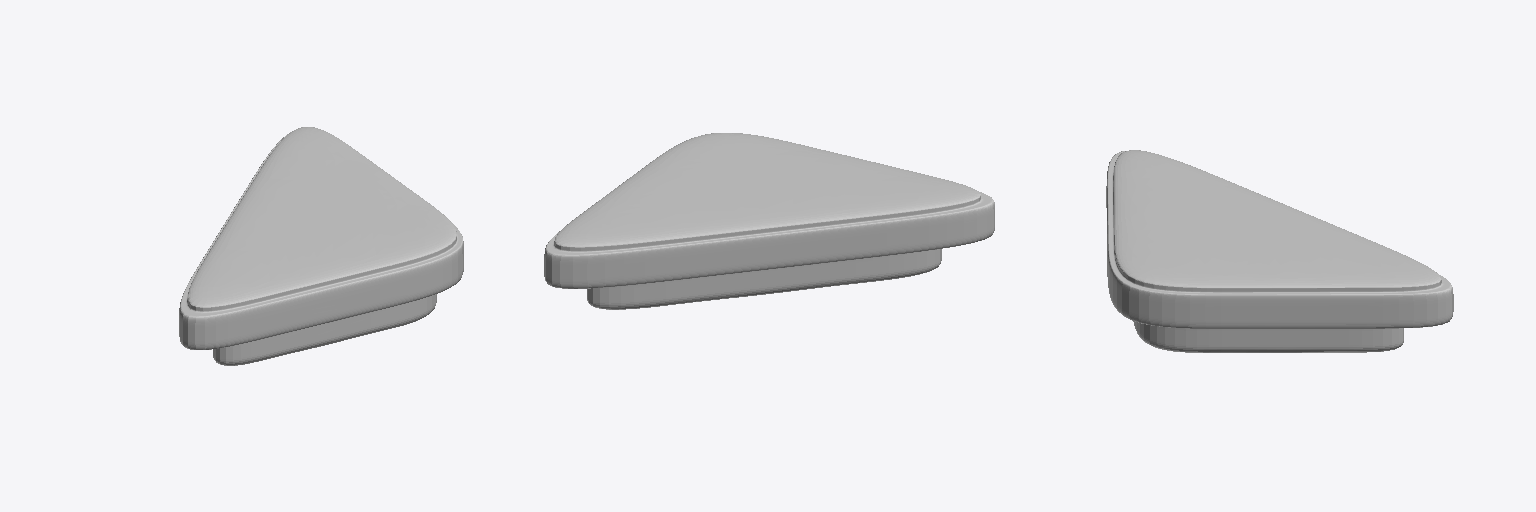
File: Sling.obj
3 views of the same model, side by side, from view 1: azimuth 30°, elevation 25°; view 2: azimuth 150°, elevation 25°; view 3: azimuth 270°, elevation 25° (orthographic).
Visible parts, largest first — view 1: Cube.002; view 2: Cube.002; view 3: Cube.002.
Part boxes in pixels (bbox=[...]): Cube.002: bbox=[179, 127, 463, 365]; Cube.002: bbox=[544, 133, 994, 309]; Cube.002: bbox=[1106, 150, 1453, 352].
Bounding box in the file's own units: 1.01 × 0.2677 × 1.01.